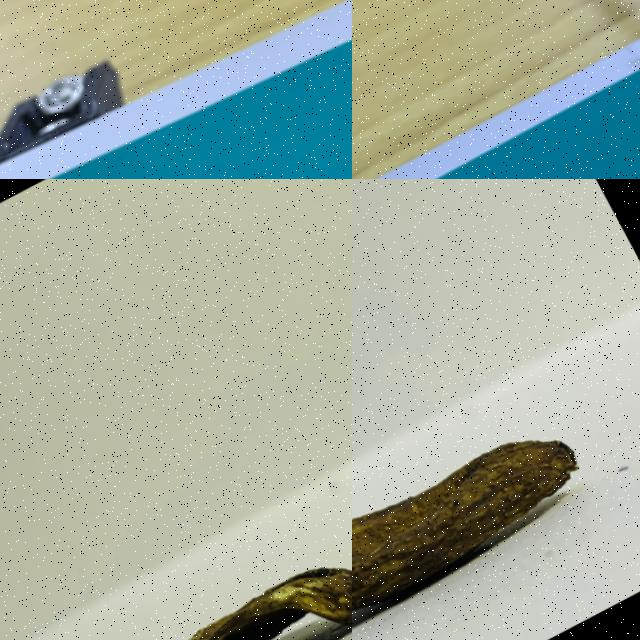Flat_cocoabeans: (352, 352, 639, 639), (92, 489, 351, 639), (51, 99, 351, 178)
